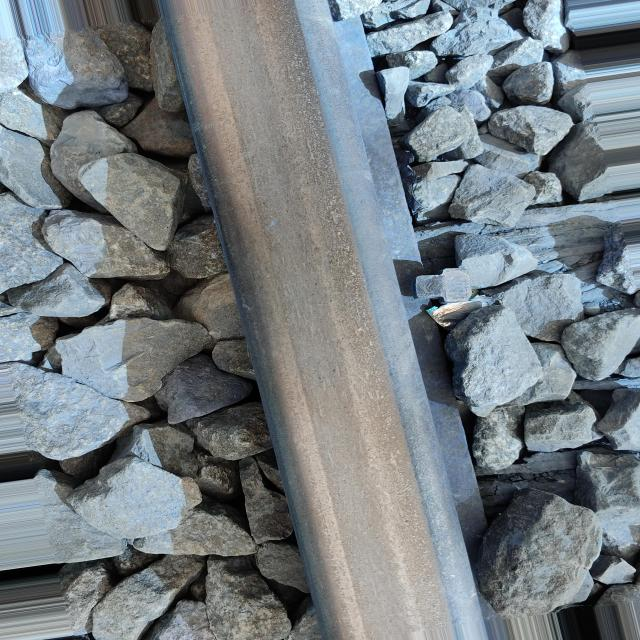non-defective: (154, 2, 492, 638)
